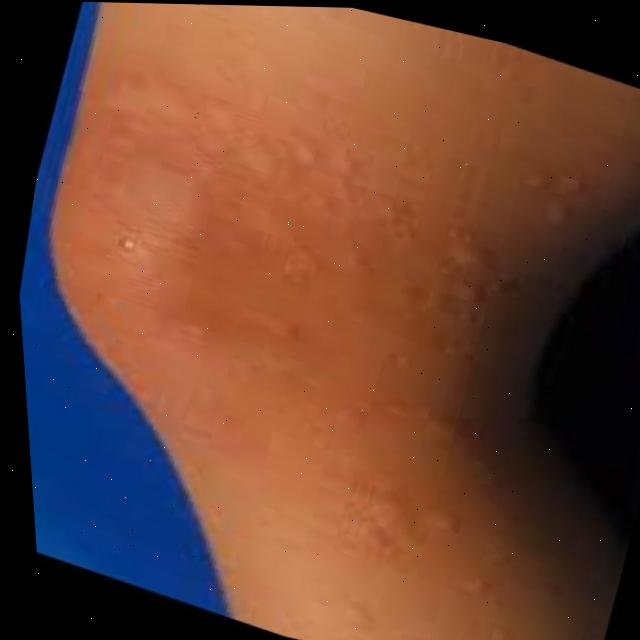Eczema: (42, 19, 631, 591)
